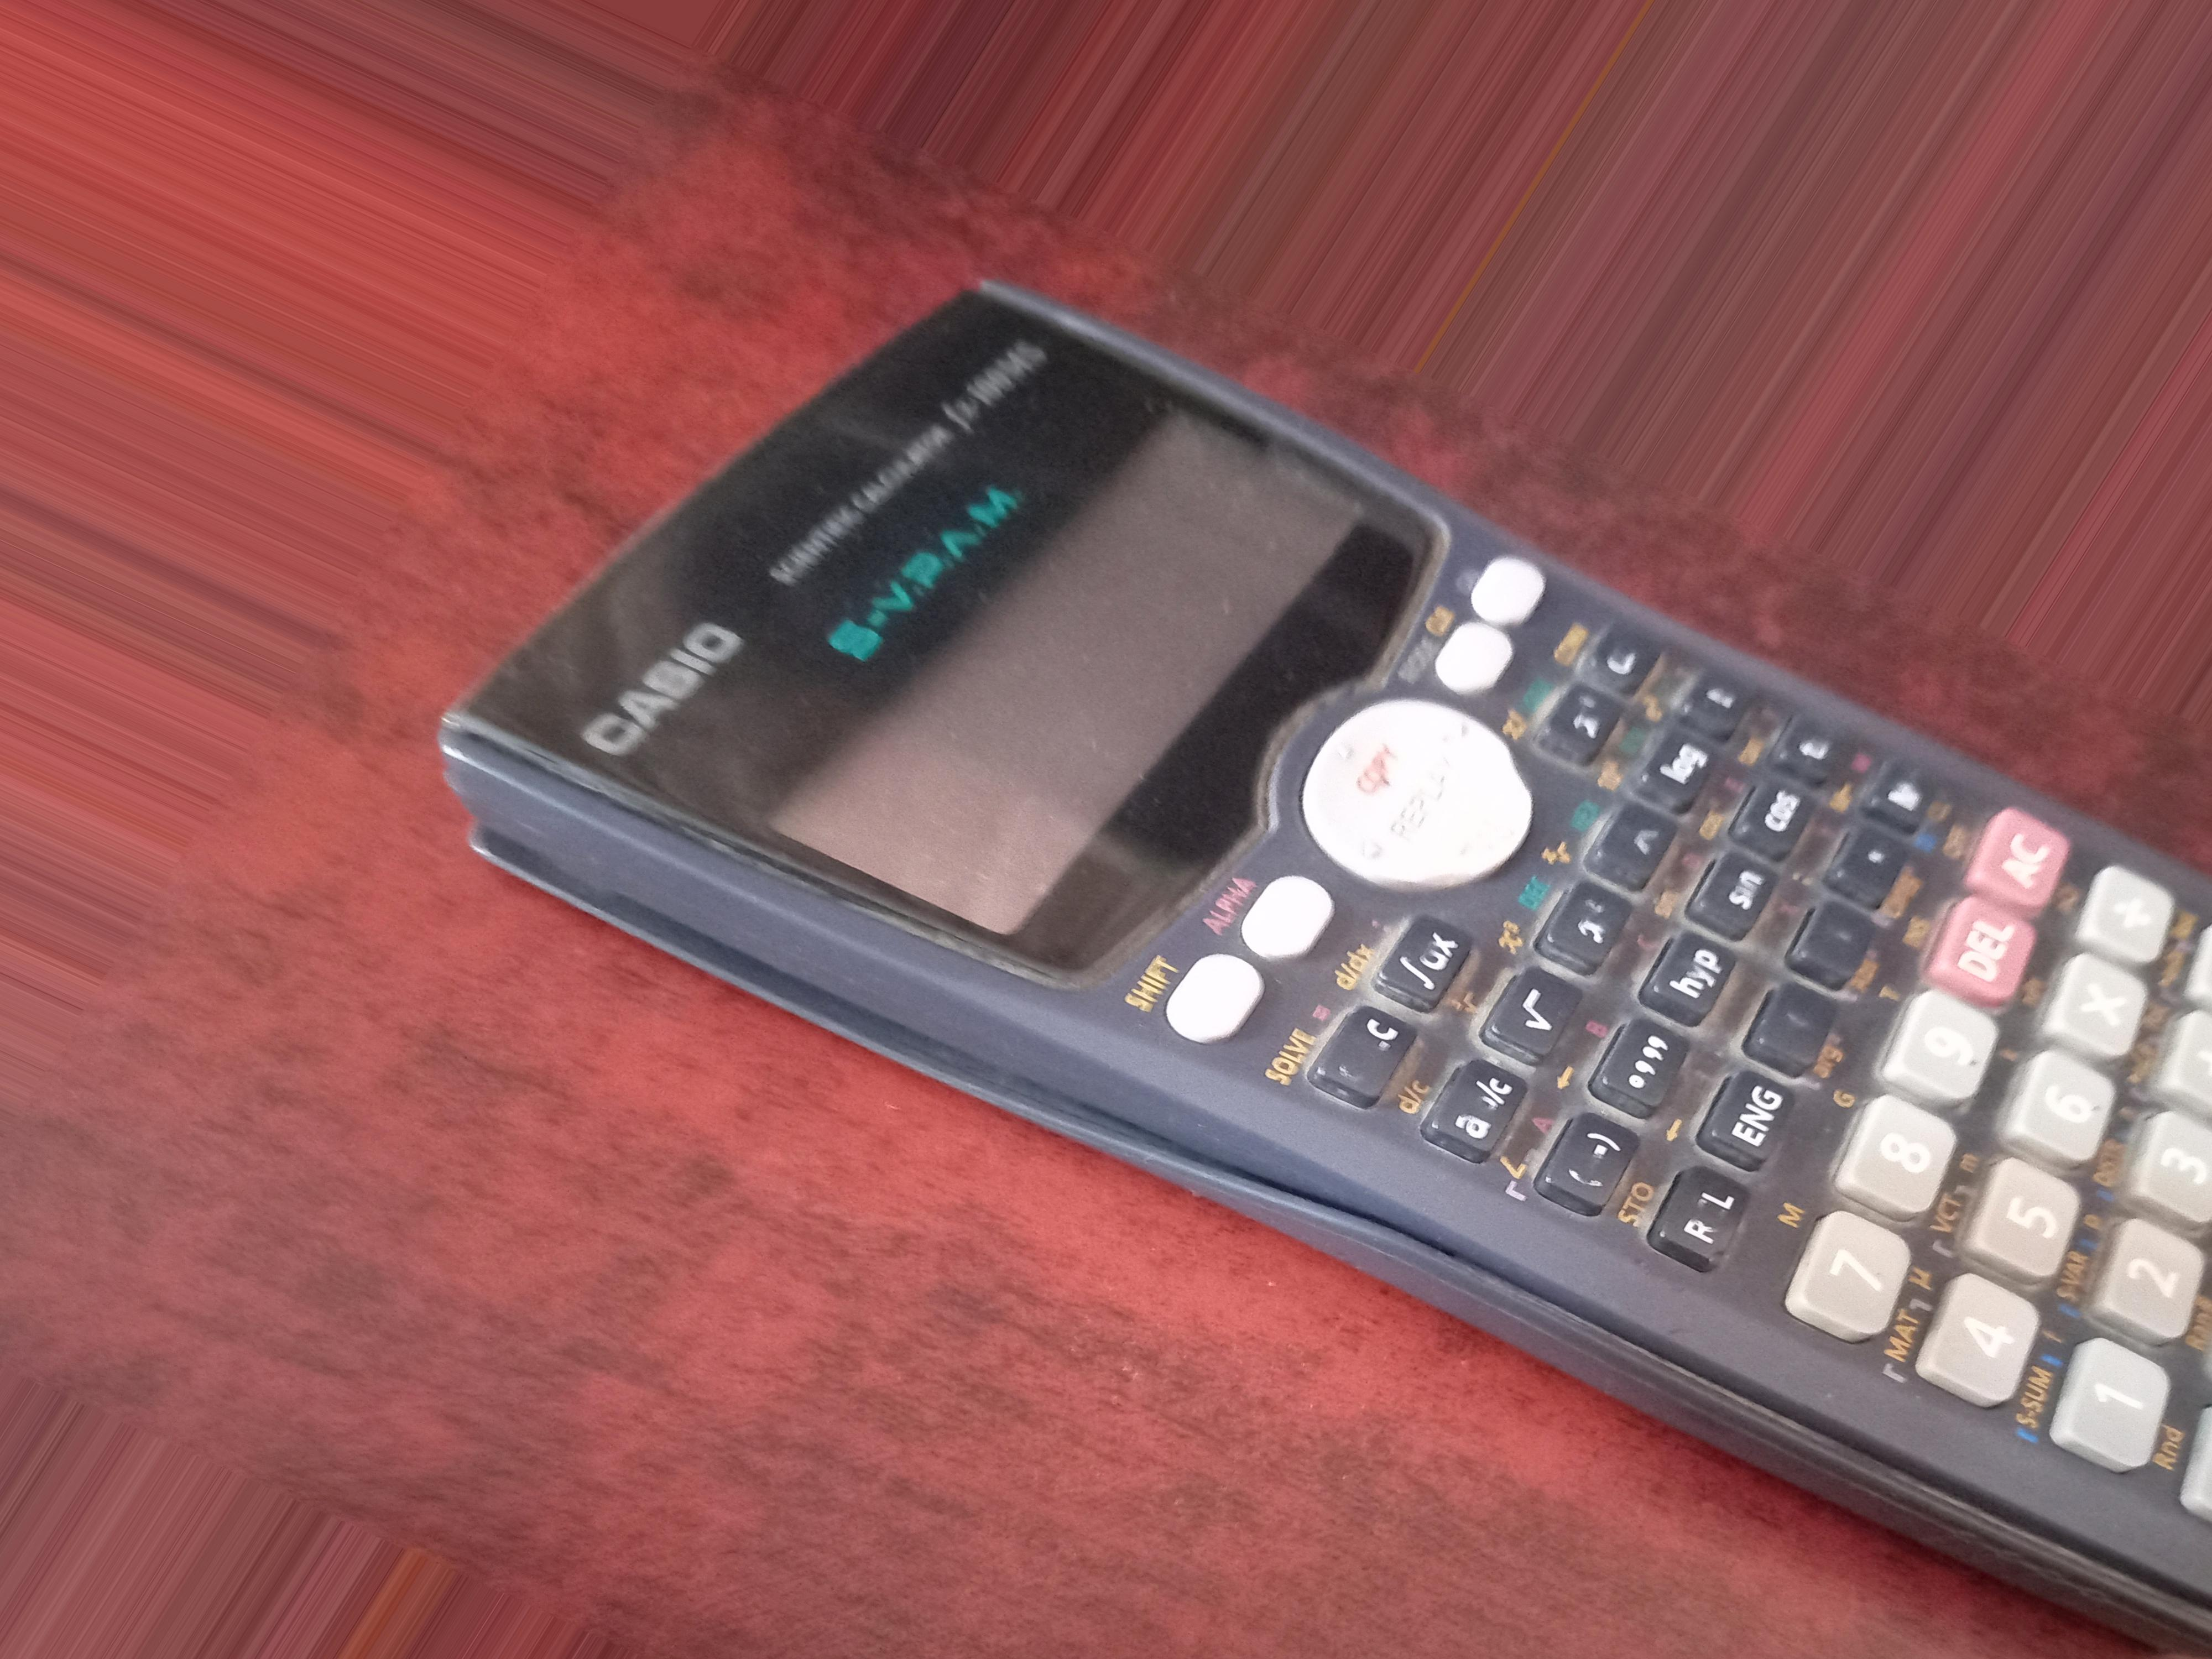calculator: (517, 727, 2212, 1436)
